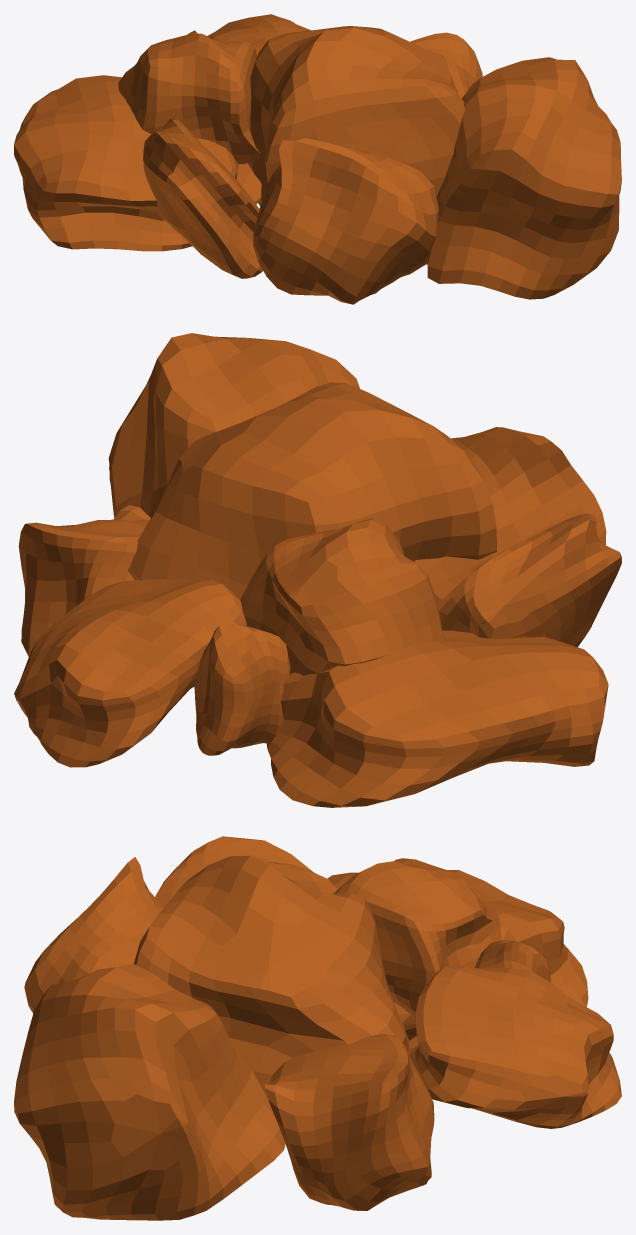
The model's file is Earth Ground.fbx.
3 renders of one model, top to bottom at view 1: azimuth 30°, elevation 25°; view 2: azimuth 150°, elevation 25°; view 3: azimuth 270°, elevation 25°, orthographic. The views are drawn at different scales.
Parts seen in each view (by area): view 1: Cube.008; view 2: Cube.008; view 3: Cube.008.
Part boxes in pixels (box(x1,y1,x2,y2)): Cube.008: box(14, 14, 621, 304); Cube.008: box(14, 333, 621, 807); Cube.008: box(14, 836, 621, 1220).
Bounding box in the file's own units: 630 × 304 × 623.
